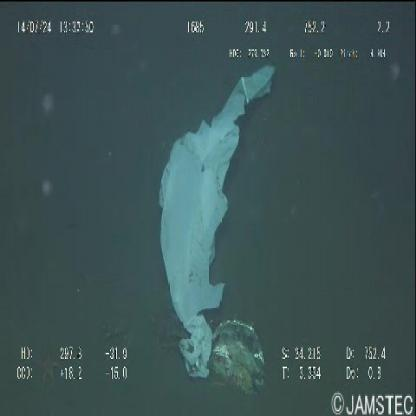Rác: (160, 64, 276, 380)
